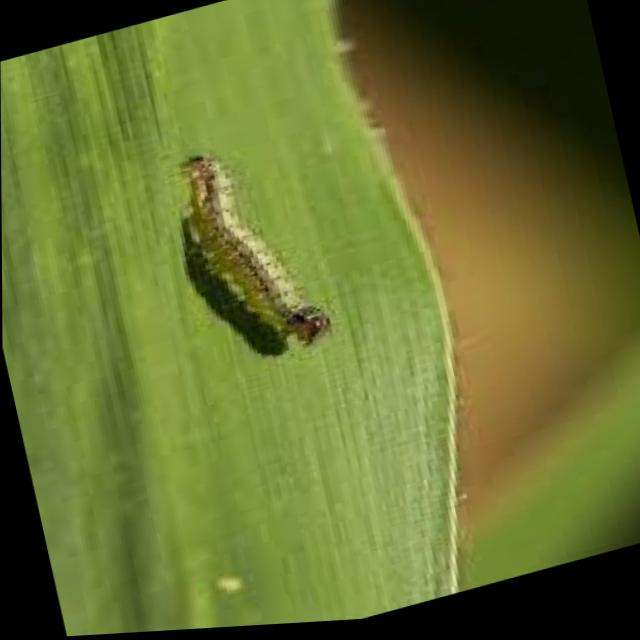Fall-Armyworm: (158, 128, 349, 394)
